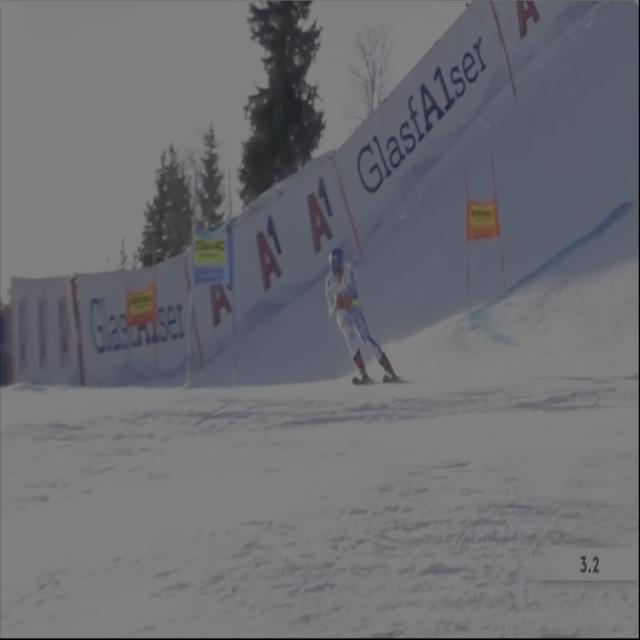gate: (222, 165, 242, 411), (484, 147, 512, 301)
